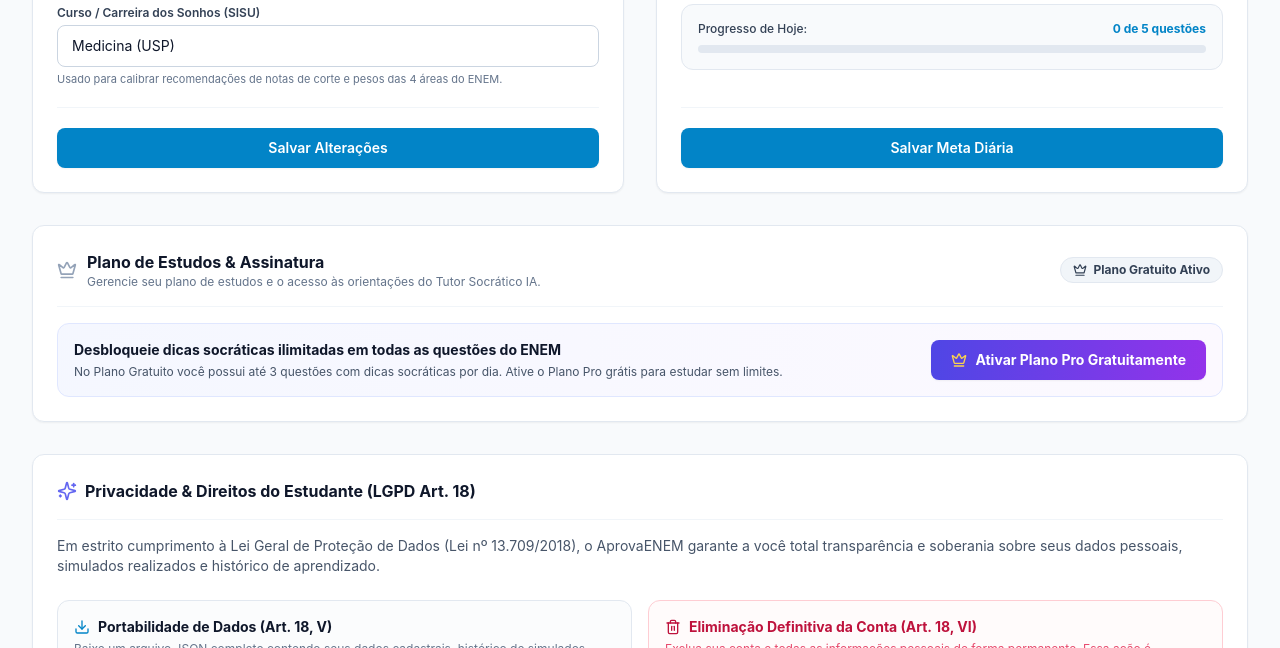
Test case: ProfilePage Feature › activates Free Dev-Mode Pro plan and updates user role to ROLE_PREMIUM_STUDENT
(page scrolled)
Expected: the text "Plano Gratuito Ativo" is shown, left=1060, top=257, right=1223, bottom=283
Click the button "Ativar Plano Pro Gratuitamente" at (1069,360), box left=931, top=340, right=1206, bottom=380
(page scrolled)
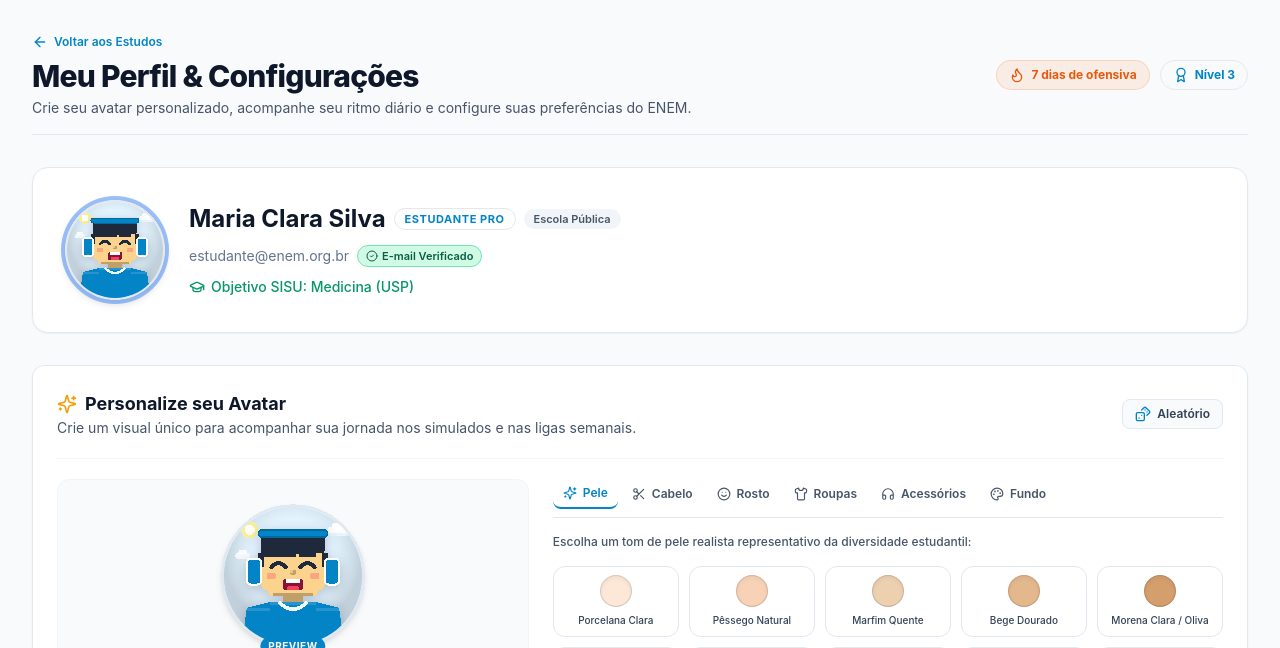
Result: the text "Estudante Pro" is shown at left=394, top=208, right=516, bottom=230
